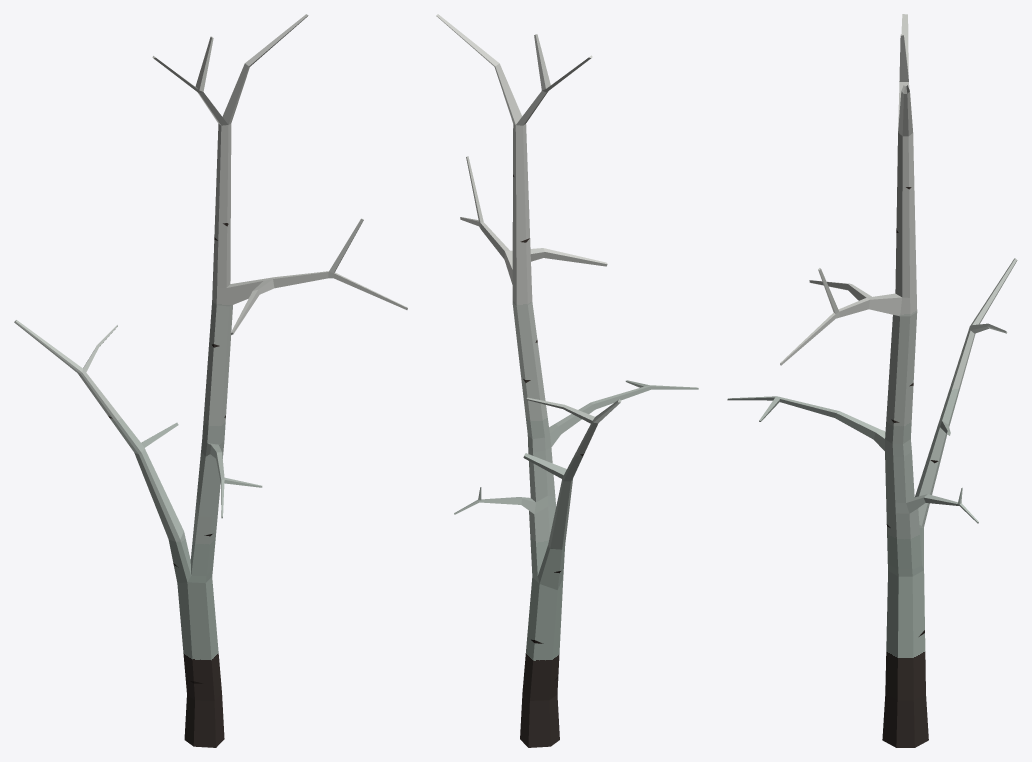
Rendered from BirchDead_009.fbx.
3 renders of one model, left to right at view 1: azimuth 30°, elevation 25°; view 2: azimuth 150°, elevation 25°; view 3: azimuth 270°, elevation 25°, orthographic.
Visible parts, largest first — view 1: BirchDead.009; view 2: BirchDead.009; view 3: BirchDead.009.
Boxes of the visible parts, left/top/right/bottom form: BirchDead.009: left=14, top=14, right=407, bottom=747; BirchDead.009: left=436, top=14, right=698, bottom=747; BirchDead.009: left=727, top=14, right=1017, bottom=747.
Bounding box in the file's own units: 6.07 × 14.69 × 5.45.
